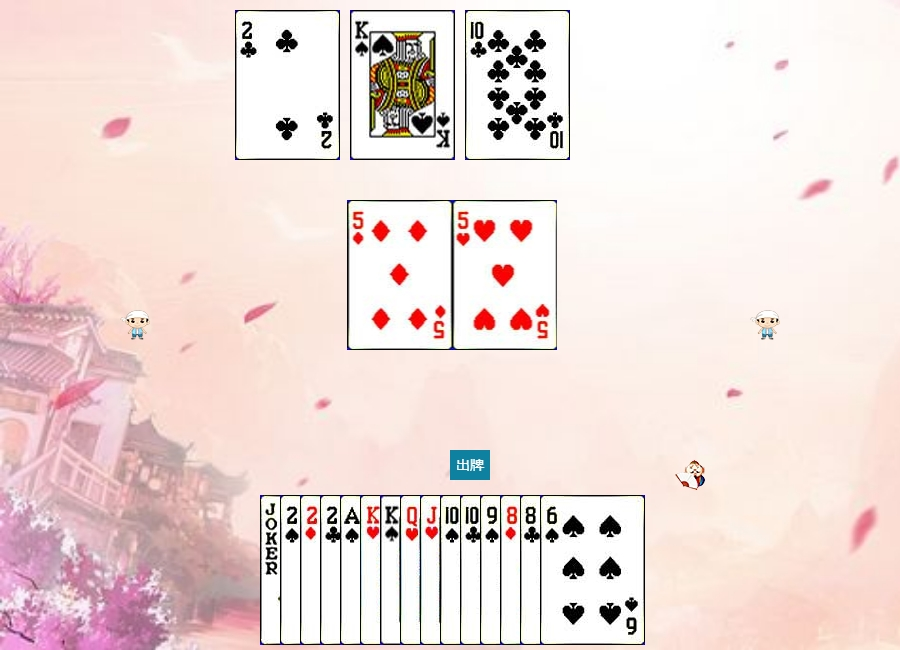10~2: (465, 10, 570, 160), (460, 495, 565, 645)
10~4: (440, 495, 545, 645)
11~3: (420, 495, 525, 645)
12~3: (400, 495, 505, 645)
13~3: (360, 495, 465, 645)
13~4: (350, 10, 455, 160), (380, 495, 485, 645)
14~4: (340, 495, 445, 645)
15~1: (300, 495, 405, 645)
15~2: (235, 10, 340, 160), (320, 495, 425, 645)
15~4: (280, 495, 385, 645)
17~3: (260, 495, 365, 645)
5~1: (348, 200, 453, 350)
5~3: (453, 200, 558, 350)
6~4: (540, 495, 645, 645)
8~1: (500, 495, 605, 645)
8~2: (520, 495, 625, 645)
9~4: (480, 495, 585, 645)
